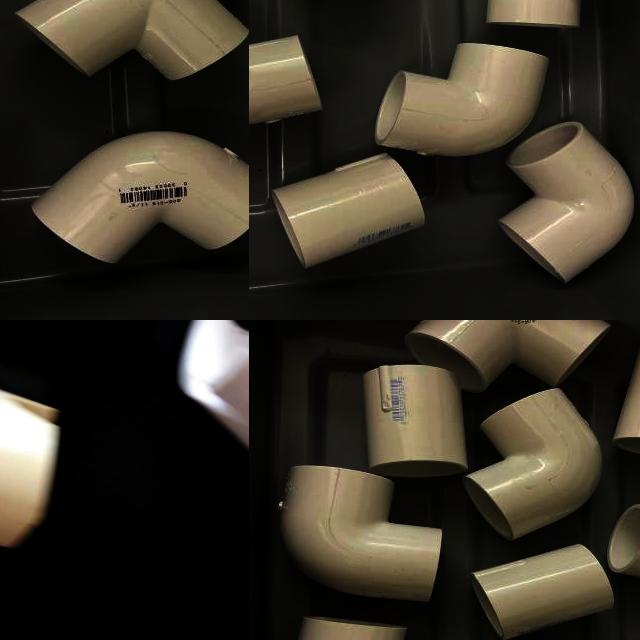L Joint: (0, 320, 166, 514), (31, 131, 249, 265), (496, 121, 637, 287), (278, 466, 442, 605), (373, 43, 549, 160), (462, 389, 597, 541), (405, 320, 608, 395), (249, 35, 324, 127)
T Joint: (17, 0, 249, 85)
